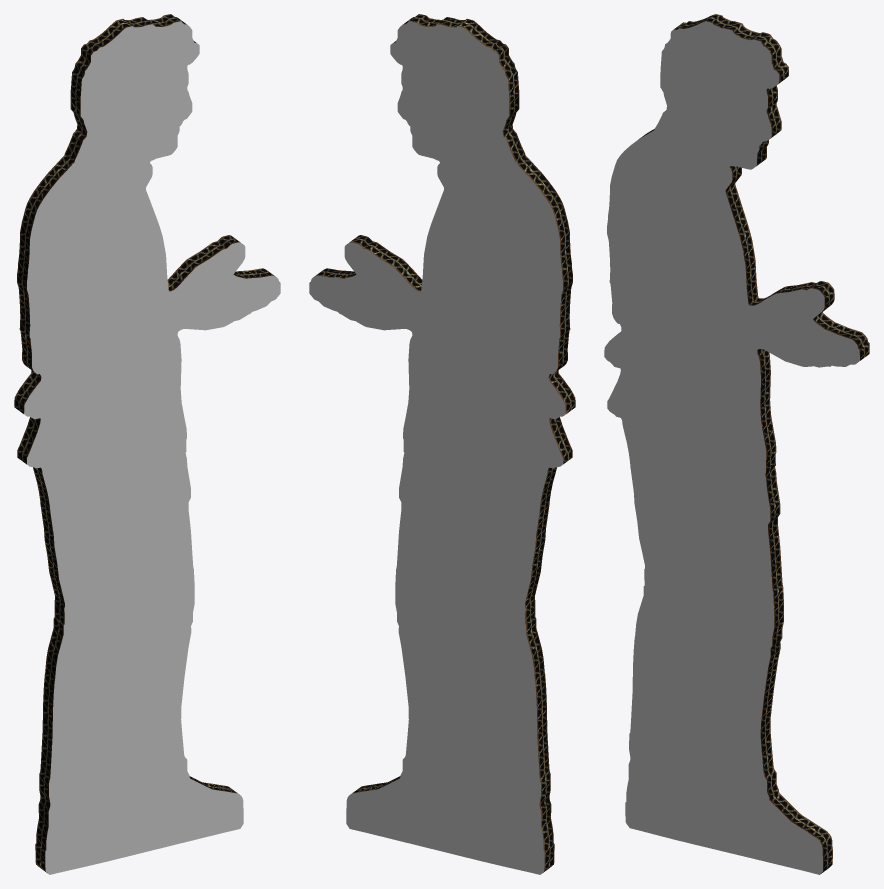
File: NPC_Cafe_Worker_Staff_Room_Chatting_Standing.FBX
The picture shows the model from 3 angles, left to right: view 1: azimuth 30°, elevation 25°; view 2: azimuth 150°, elevation 25°; view 3: azimuth 330°, elevation 25°; orthographic projection.
Parts seen in each view (by area): view 1: NPC_Cafe_Worker_Staff_Room_Chatting_Standing; view 2: NPC_Cafe_Worker_Staff_Room_Chatting_Standing; view 3: NPC_Cafe_Worker_Staff_Room_Chatting_Standing.
Part boxes in pixels (bbox=[...]): NPC_Cafe_Worker_Staff_Room_Chatting_Standing: bbox=[14, 14, 280, 874]; NPC_Cafe_Worker_Staff_Room_Chatting_Standing: bbox=[309, 14, 575, 874]; NPC_Cafe_Worker_Staff_Room_Chatting_Standing: bbox=[604, 14, 869, 874].
Bounding box in the file's own units: 20.7 × 63.9 × 1.38.
